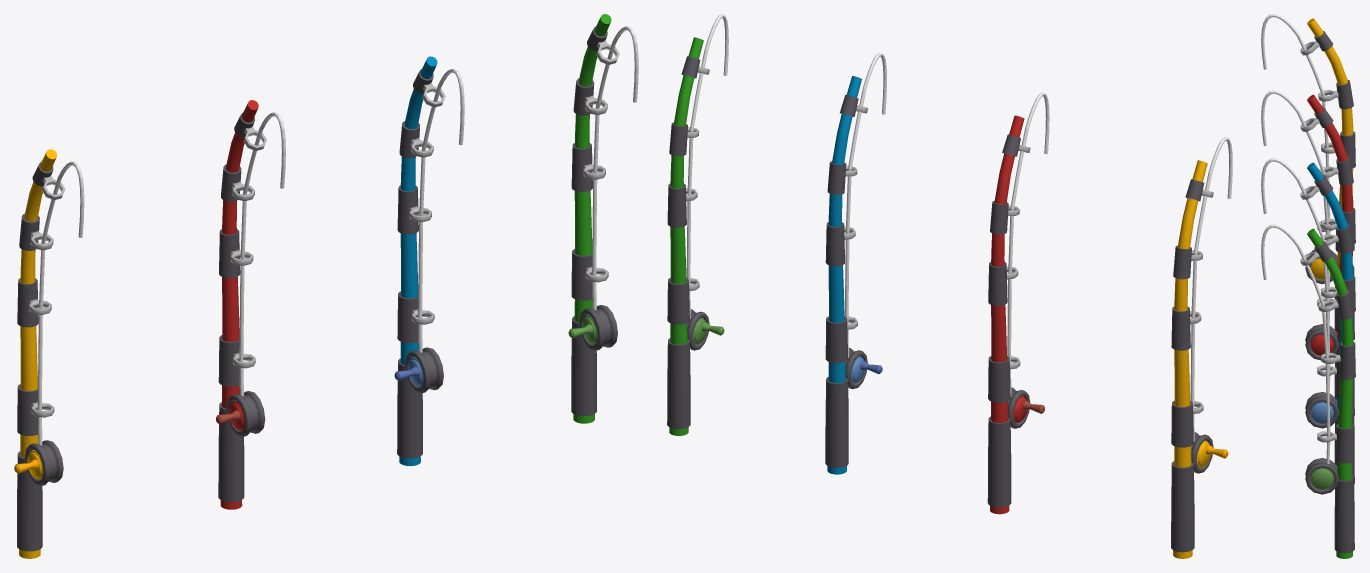
3 renders of one model, left to right at view 1: azimuth 30°, elevation 25°; view 2: azimuth 150°, elevation 25°; view 3: azimuth 270°, elevation 25°, orthographic. The views are drawn at different scales.
Parts seen in each view (by area): view 1: RodPart.003, RodPart.001, RodPart.002, RodPart.004, Rod.004, Rod.002, Rod.001, Rod.003, Line.001, Line.002, Line.003, Line.004 (+4 smaller); view 2: RodPart.004, RodPart.001, RodPart.002, RodPart.003, Rod.001, Rod.002, Rod.004, Rod.003, Line.003, Line.004, Line.001, Line.002; view 3: RodPart.001, Rod.001, RodPart.002, RodPart.004, Line.001, RodPart.003, Rod.002, Rod.004, Rod.003, Line.002, Line.004, Line.003 (+20 smaller).
Boxes of the visible parts, x1,y1,x2,y2 form: RodPart.003: (218,112,254,502); RodPart.001: (571,26,607,416); RodPart.002: (397,69,433,458); RodPart.004: (17,162,53,551); Rod.004: (19,149,56,558); Rod.002: (399,56,437,466); Rod.001: (573,14,611,423); Rod.003: (220,100,258,509); Line.001: (592,26,638,310); Line.002: (418,69,464,352); Line.003: (239,112,285,396); Line.004: (37,161,84,445); RodPart.004: (1171,179,1204,552); RodPart.001: (667,56,700,429); RodPart.002: (825,95,858,467); RodPart.003: (987,134,1020,507); Rod.001: (669,37,703,435); Rod.002: (827,76,861,474); Rod.004: (1173,160,1207,558); Rod.003: (990,115,1024,514); Line.003: (1007,92,1049,396); Line.004: (1190,137,1232,441); Line.001: (686,14,728,318); Line.002: (845,52,886,357); RodPart.001: (1314,241,1355,553); Rod.001: (1307,228,1353,558); RodPart.002: (1314,175,1355,483); RodPart.004: (1314,31,1355,340); Line.001: (1261,224,1330,464); RodPart.003: (1314,107,1355,415); Rod.002: (1307,162,1353,410); Rod.004: (1307,18,1353,268); Rod.003: (1307,94,1353,343); Line.002: (1261,158,1330,391); Line.004: (1261,14,1330,248); Line.003: (1261,90,1330,325).
Size of the model in its own units: 50.65 by 34.48 by 8.95.
Materials: 1 (1 with a texture image).
